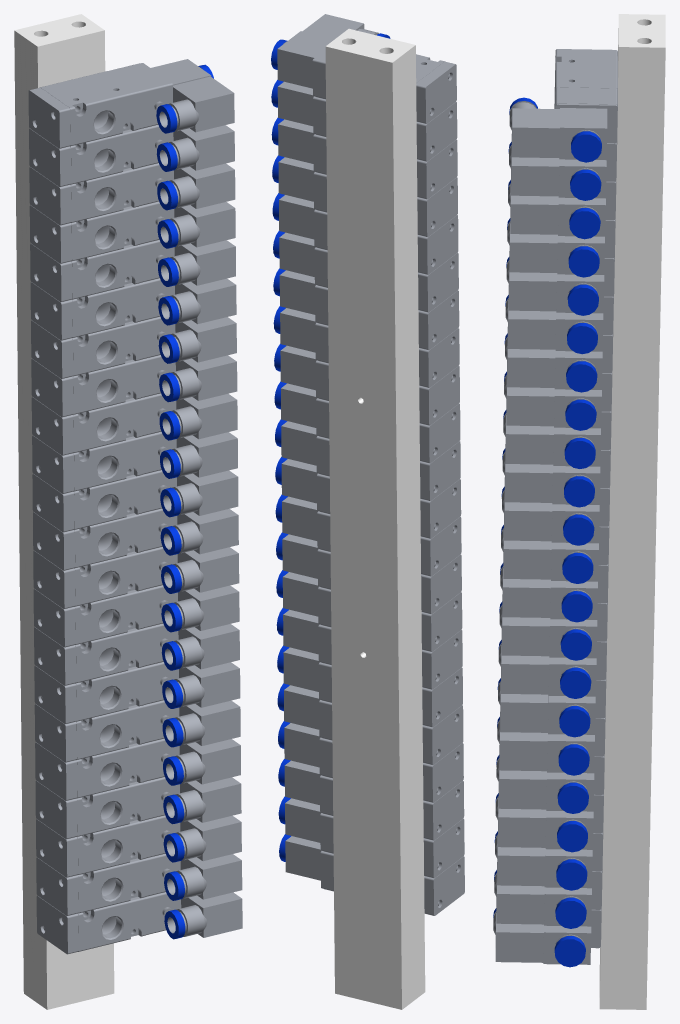
The model's file is 电磁阀.obj.
3 views of the same model, side by side, from view 1: azimuth 30°, elevation 25°; view 2: azimuth 150°, elevation 25°; view 3: azimuth 270°, elevation 25° (orthographic).
Visible parts, largest first — view 1: BRep_1, ______1_4, ______1_5, ______1_18, ______1_10, ______1_1, ______1_13, ______1_15, ______1_7, ______1_20, ______1_21, ______1_8 (+11 smaller); view 2: BRep_1, ______1_4, ______1_17, ______1_9, ______1, ______1_12, ______1_15, ______1_1, ______1_7, ______1_20, ______1_10, ______1_14 (+11 smaller); view 3: BRep_1, ______1_4, ______1_13, ______1, ______1_17, ______1_9, ______1_12, ______1_21, ______1_3, ______1_8, ______1_5, ______1_20 (+11 smaller).
Part boxes in pixels (box(x1,y1,x2,y2)): BRep_1: box(14, 14, 114, 1009); ______1_4: box(28, 59, 234, 148); ______1_5: box(30, 278, 236, 340); ______1_18: box(35, 777, 241, 839); ______1_10: box(32, 470, 238, 532); ______1_1: box(29, 163, 235, 225); ______1_13: box(33, 585, 239, 647); ______1_15: box(34, 662, 240, 723); ______1_7: box(31, 355, 237, 417); ______1_20: box(36, 853, 242, 915); ______1_21: box(36, 892, 242, 954); ______1_8: box(31, 393, 237, 455); BRep_1: box(325, 28, 425, 1009); ______1_4: box(271, 14, 456, 123); ______1_17: box(277, 683, 463, 765); ______1_9: box(274, 381, 460, 463); ______1: box(272, 193, 458, 274); ______1_12: box(275, 494, 461, 576); ______1_15: box(276, 608, 462, 689); ______1_1: box(271, 117, 457, 199); ______1_7: box(273, 306, 459, 387); ______1_20: box(278, 796, 464, 878); ______1_10: box(275, 419, 460, 500); ______1_14: box(276, 570, 462, 651); BRep_1: box(599, 14, 665, 1009); ______1_4: box(509, 49, 617, 162); ______1_13: box(499, 601, 607, 660); ______1: box(506, 256, 614, 315); ______1_17: box(496, 755, 604, 813); ______1_9: box(502, 448, 610, 507); ______1_12: box(500, 563, 608, 622); ______1_21: box(493, 908, 601, 967); ______1_3: box(507, 218, 615, 277); ______1_8: box(503, 410, 611, 468); ______1_5: box(505, 295, 613, 354); ______1_20: box(494, 869, 602, 928).
Bounding box in the file's own units: 121 × 678 × 110.
